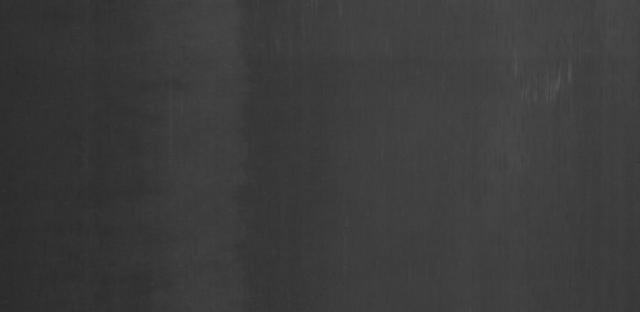silk_spot: (498, 57, 581, 116), (145, 68, 203, 126)
